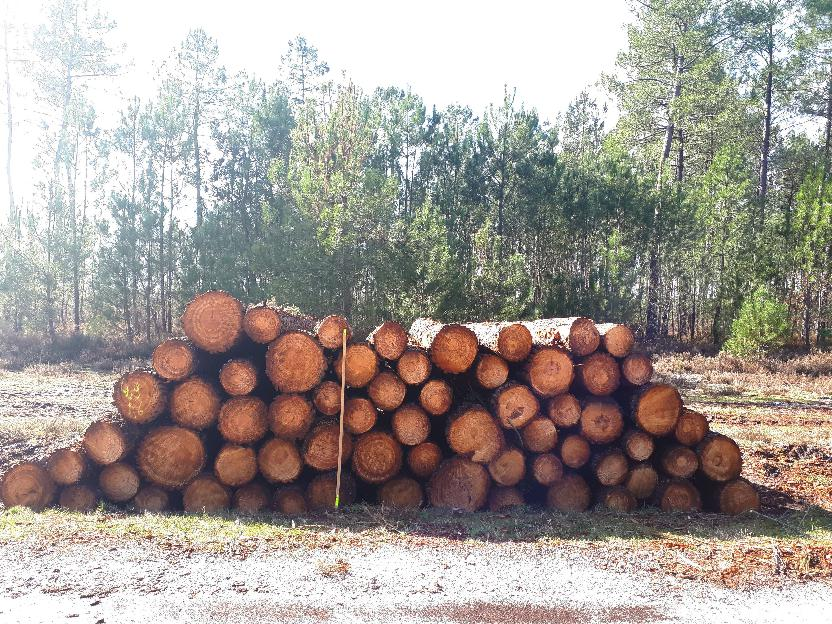etalon: (334, 327, 346, 510)
object: (132, 425, 209, 488), (180, 292, 248, 354), (262, 332, 328, 390), (446, 406, 504, 460), (427, 457, 487, 509), (170, 376, 224, 432), (429, 322, 483, 376), (112, 370, 166, 424), (2, 459, 56, 513), (350, 432, 404, 484), (216, 394, 276, 440), (525, 343, 577, 395), (636, 381, 684, 435), (210, 441, 260, 489), (303, 421, 353, 467), (332, 343, 380, 390), (268, 390, 316, 437), (150, 336, 196, 383), (580, 394, 628, 439), (182, 476, 232, 518), (304, 474, 355, 514), (546, 473, 592, 517), (80, 422, 128, 464), (242, 302, 288, 342), (378, 474, 424, 514), (577, 354, 625, 392), (369, 316, 409, 361), (703, 438, 745, 480), (496, 320, 536, 364), (261, 439, 301, 483), (216, 358, 262, 396), (97, 462, 142, 500), (496, 382, 538, 422), (491, 444, 533, 484), (394, 404, 430, 448), (718, 477, 762, 513), (58, 484, 102, 518), (396, 350, 437, 386), (342, 396, 380, 434), (316, 314, 356, 350), (566, 317, 602, 357), (661, 477, 703, 511), (418, 378, 454, 416), (50, 445, 86, 483), (520, 412, 557, 448), (544, 392, 580, 428), (312, 380, 346, 416), (626, 464, 660, 500), (370, 372, 402, 410), (595, 447, 627, 485), (476, 356, 510, 390), (132, 486, 170, 516), (621, 354, 653, 388), (663, 445, 699, 475), (408, 443, 445, 472), (603, 324, 635, 356), (624, 428, 654, 462), (276, 488, 310, 518), (534, 448, 562, 484), (677, 411, 709, 441), (487, 490, 527, 514), (232, 487, 270, 511), (562, 432, 588, 466), (606, 489, 636, 513)
pile: (2, 293, 778, 512)
